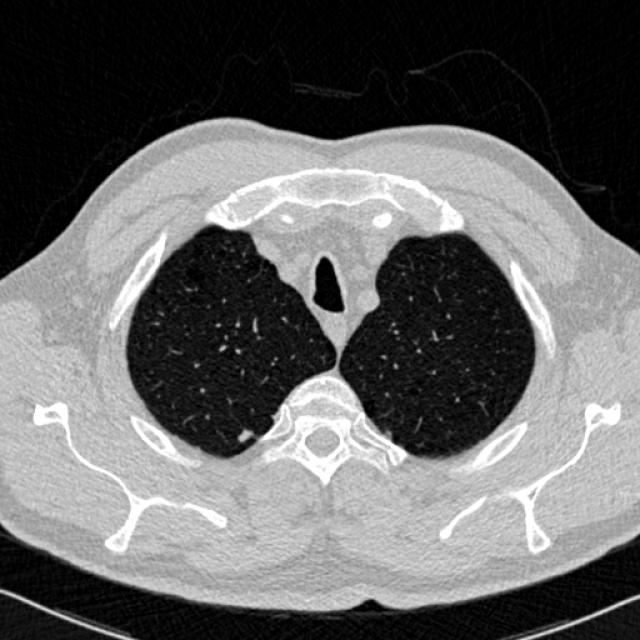nodule: (230, 421, 258, 449)
